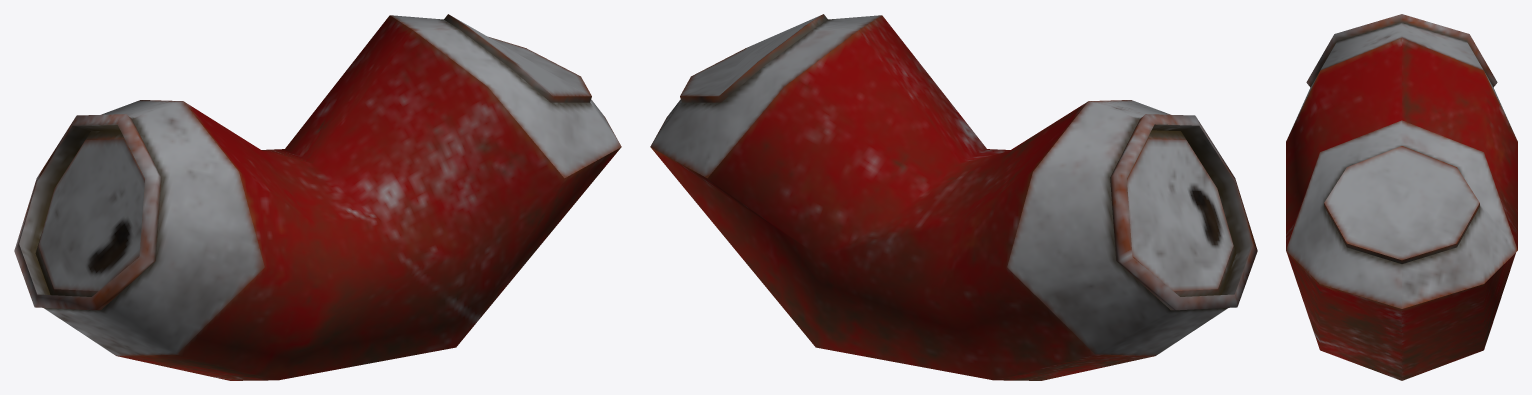
Rendered from can1.fbx.
3 views of the same model, side by side, from view 1: azimuth 30°, elevation 25°; view 2: azimuth 150°, elevation 25°; view 3: azimuth 270°, elevation 25° (orthographic). The views are drawn at different scales.
Visible parts, largest first — view 1: Can_03_GEO; view 2: Can_03_GEO; view 3: Can_03_GEO.
Part boxes in pixels (box(x1,y1,x2,y2)): Can_03_GEO: box(14, 14, 621, 380); Can_03_GEO: box(650, 14, 1257, 380); Can_03_GEO: box(1286, 14, 1517, 380).
Size of the model in its own units: 14.65 by 7.49 by 6.17.
1 material, 1 textured.
